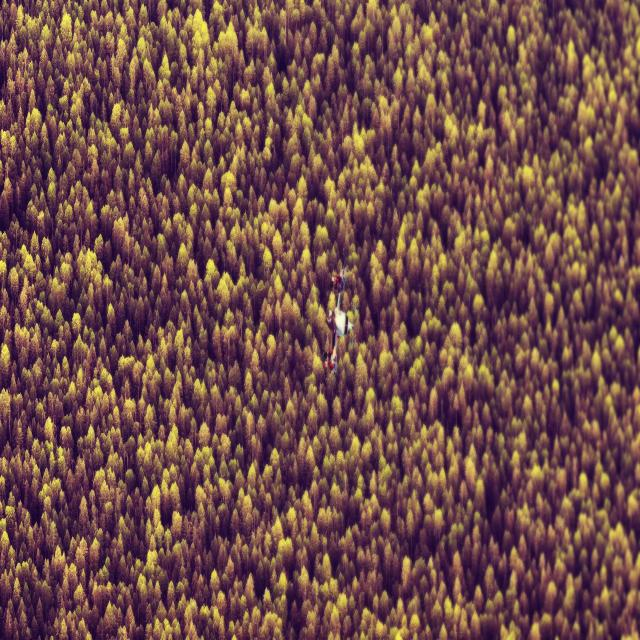airplane: (323, 268, 358, 376)
